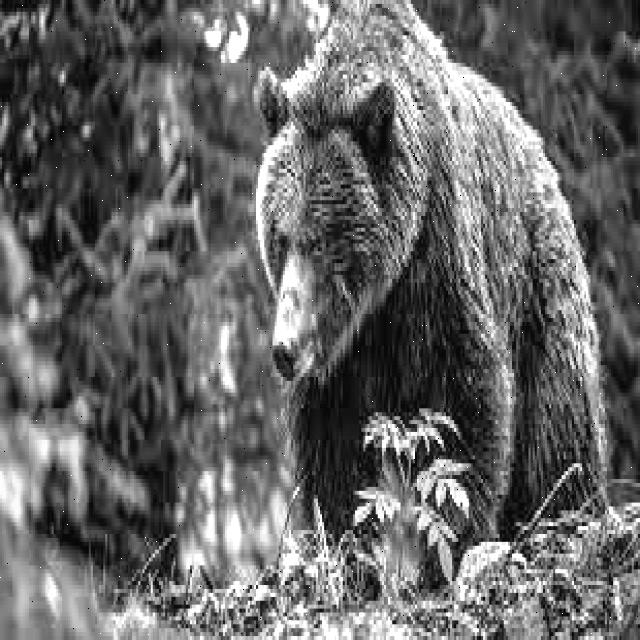bear: (243, 0, 599, 594)
